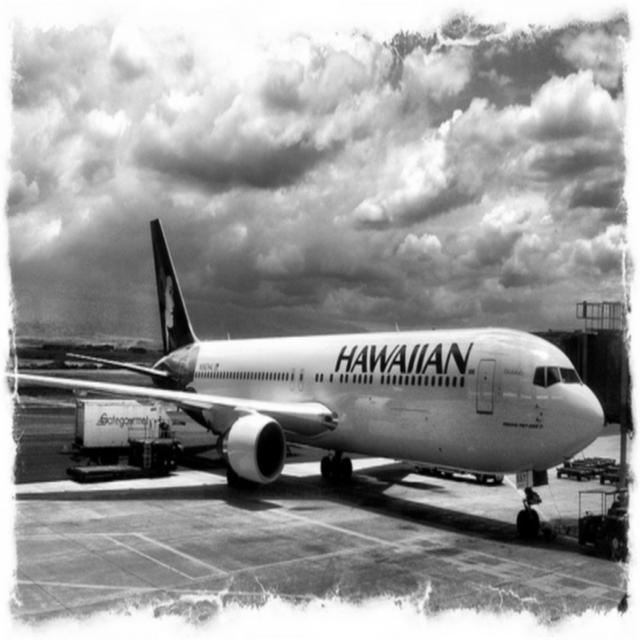truck: (70, 394, 176, 464)
